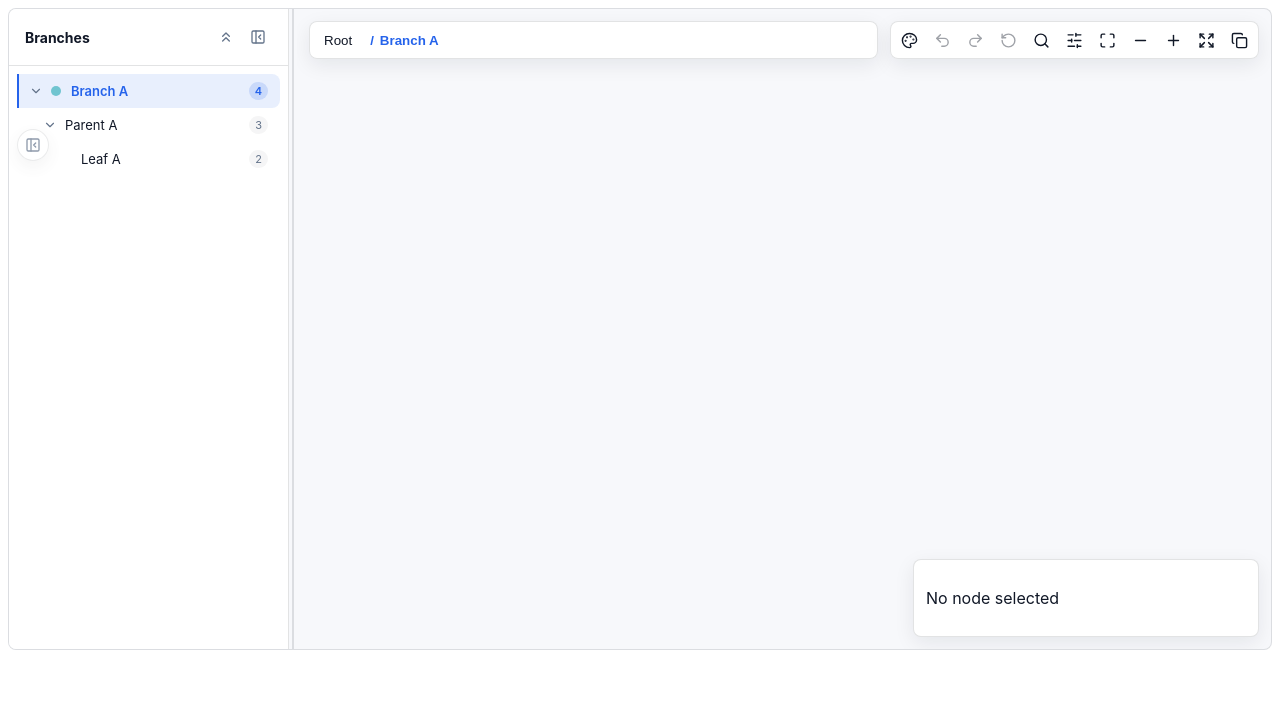
Scenario: @my-mind-node/react › skips the compact branch tree expansion step when no parent has only single-count children
This screenshot has width=1280, height=720.
Expected: the number of list items with class "mmn-branch-list-item" is 3, left=17, top=74, right=280, bottom=108; left=43, top=116, right=268, bottom=134; left=81, top=150, right=268, bottom=168
Click the button named "Collapse all branches".
click(226, 37)  # box left=212, top=23, right=240, bottom=51
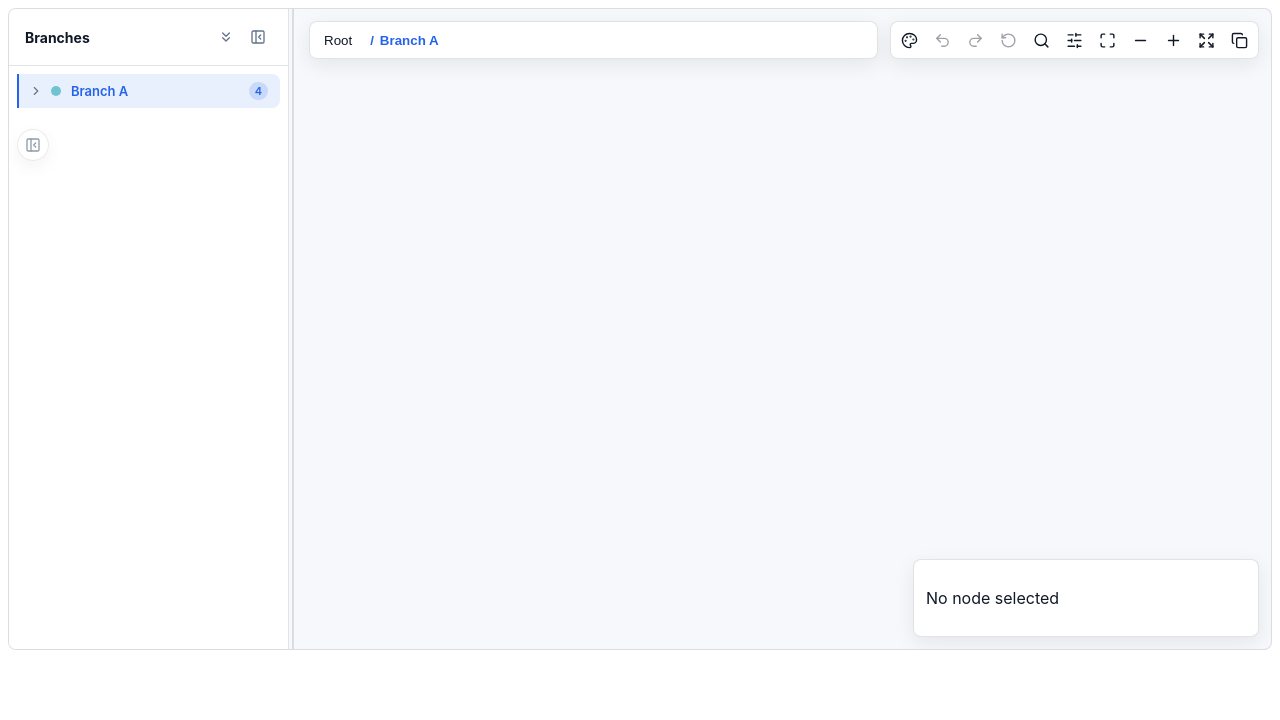
Result: the number of list items with class "mmn-branch-list-item" is 1 at left=17, top=74, right=280, bottom=108
Click the button named "Restore default branch expansion".
click(226, 37)  # box left=212, top=23, right=240, bottom=51
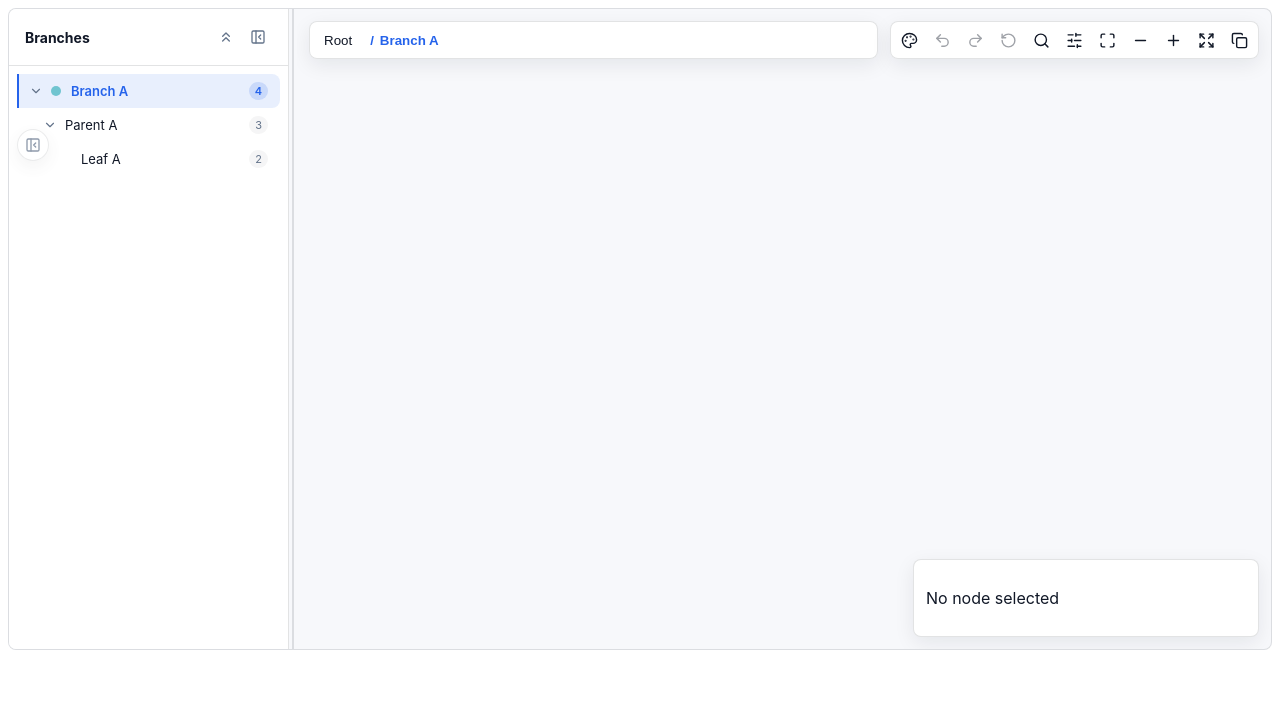
Result: the number of list items with class "mmn-branch-list-item" is 3 at left=17, top=74, right=280, bottom=108; left=43, top=116, right=268, bottom=134; left=81, top=150, right=268, bottom=168
